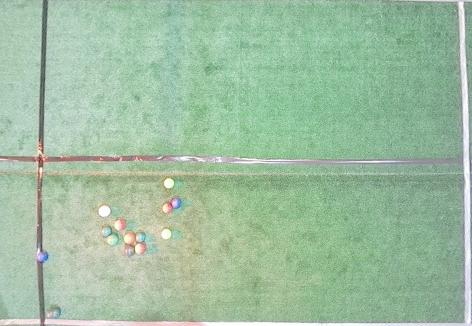blue: (37, 252, 48, 262), (171, 198, 182, 208)
green: (106, 234, 119, 246), (101, 226, 112, 237), (135, 233, 146, 242), (125, 246, 134, 256), (51, 309, 60, 318)
red: (98, 205, 111, 217), (115, 218, 126, 231), (124, 232, 135, 245), (135, 242, 146, 255), (163, 203, 172, 214)
vline: (1, 0, 49, 254), (456, 0, 471, 326), (1, 263, 45, 325)
white: (47, 314, 51, 317)
yellow: (161, 229, 171, 239), (164, 178, 174, 188)
